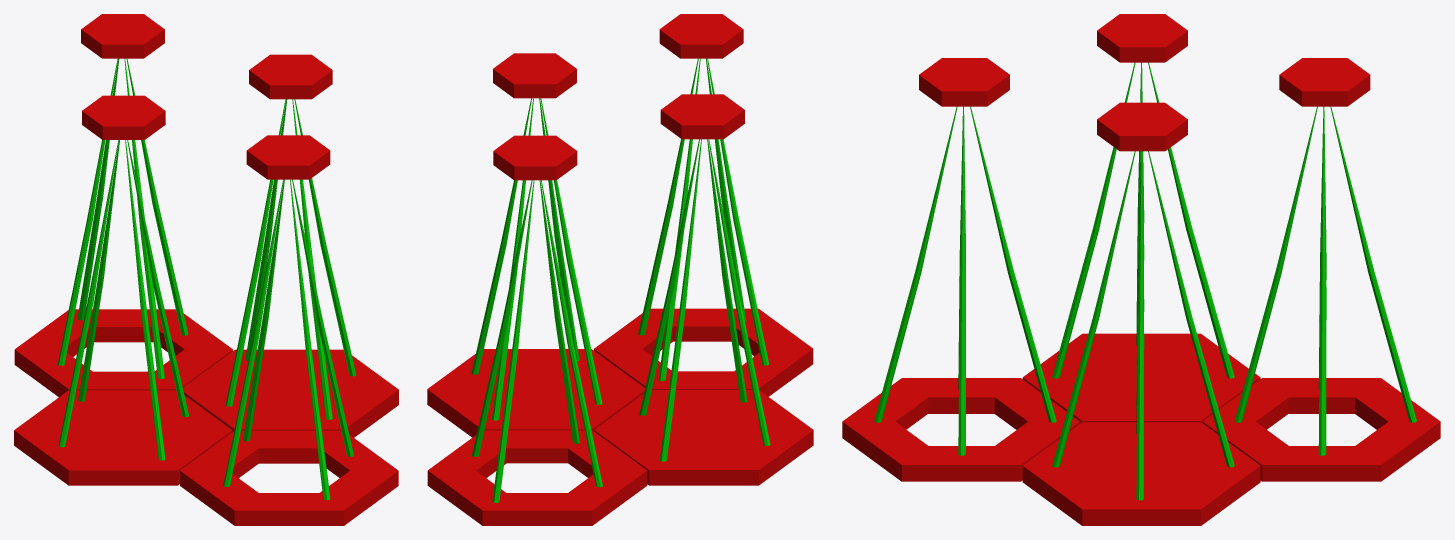
File: HangingFuturelamp4.fbx
The picture shows the model from 3 angles, left to right: view 1: azimuth 30°, elevation 25°; view 2: azimuth 150°, elevation 25°; view 3: azimuth 270°, elevation 25°; orthographic projection. The views are drawn at different scales.
Parts seen in each view (by area): view 1: Cylinder.003; view 2: Cylinder.003; view 3: Cylinder.003.
Boxes of the visible parts, <box> form: Cylinder.003: <box>14,14,398,525</box>; Cylinder.003: <box>427,14,813,525</box>; Cylinder.003: <box>842,14,1440,525</box>.
Bounding box in the file's own units: 165 × 238 × 160.
